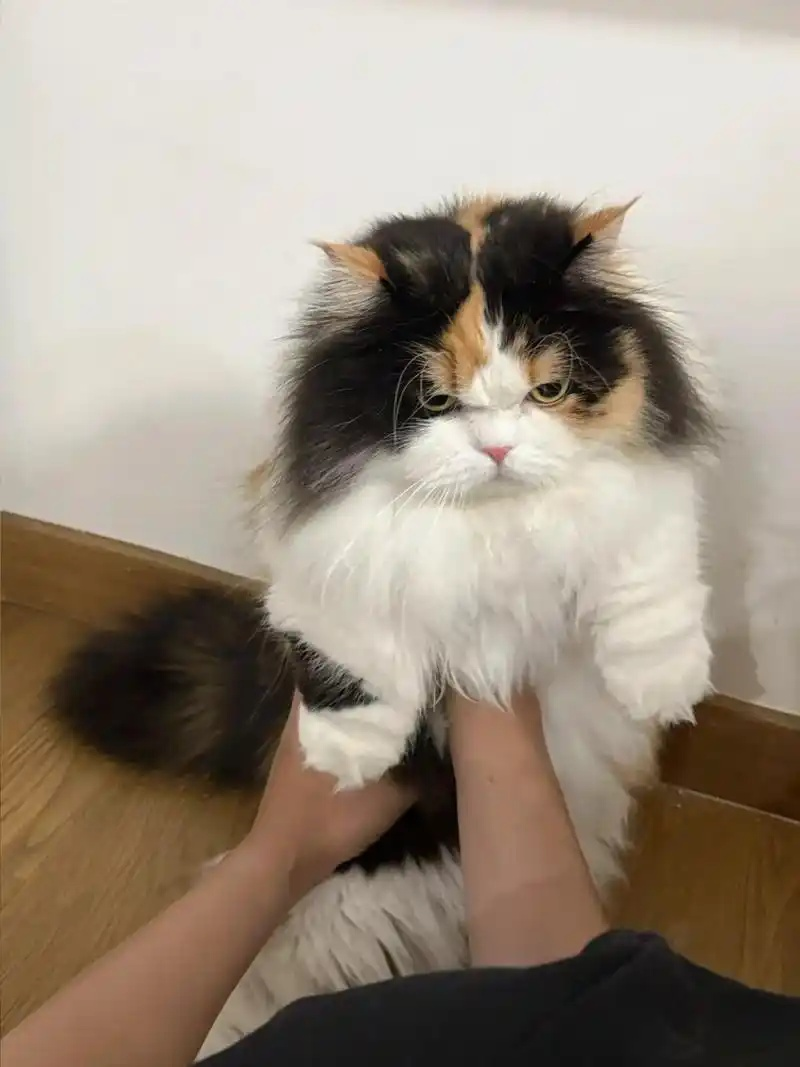三花猫: (268, 195, 716, 719)
